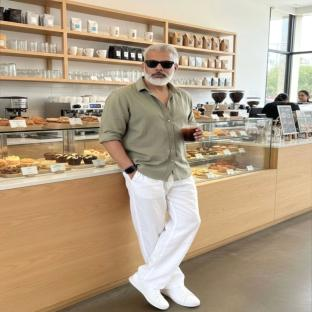Human: (100, 44, 201, 309)
